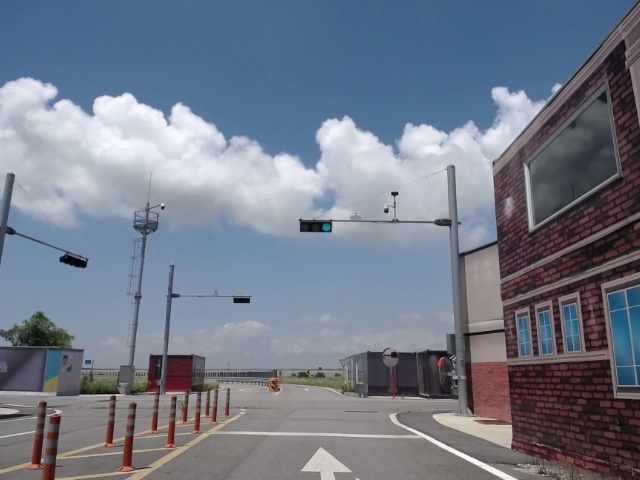green_3: (300, 221, 331, 231)
